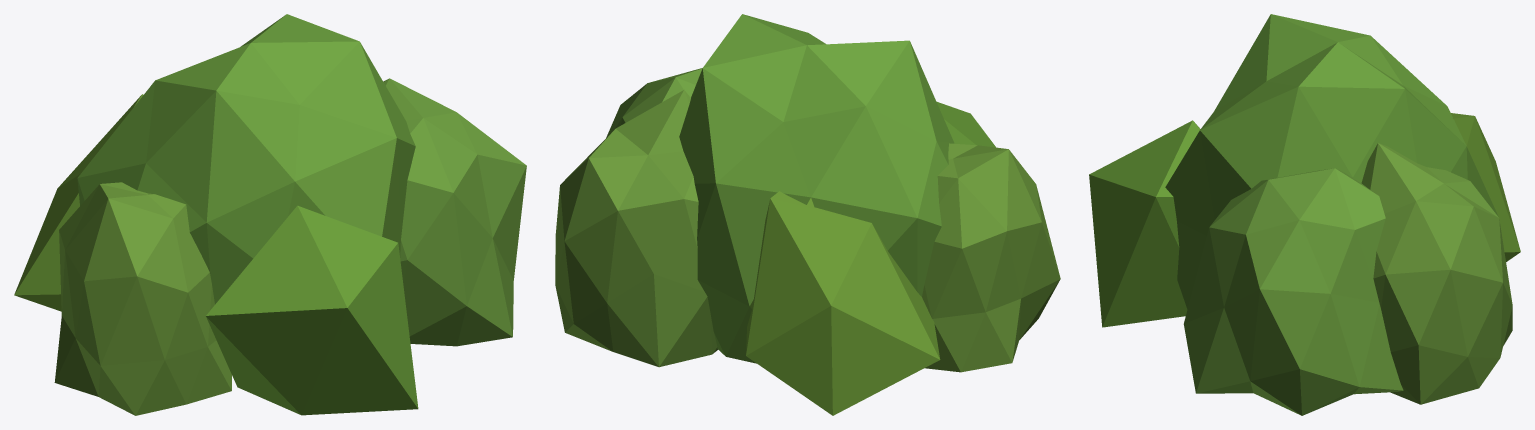
Rendered from shrub_b.glb.
3 views of the same model, side by side, from view 1: azimuth 30°, elevation 25°; view 2: azimuth 150°, elevation 25°; view 3: azimuth 270°, elevation 25° (orthographic). The views are drawn at different scales.
Visible parts, largest first — view 1: shrub; view 2: shrub; view 3: shrub.
Boxes of the visible parts, x1,y1,x2,y2 form: shrub: (14, 14, 526, 415); shrub: (555, 14, 1060, 415); shrub: (1089, 14, 1520, 415).
Bounding box in the file's own units: 3.28 × 1.99 × 2.89.
